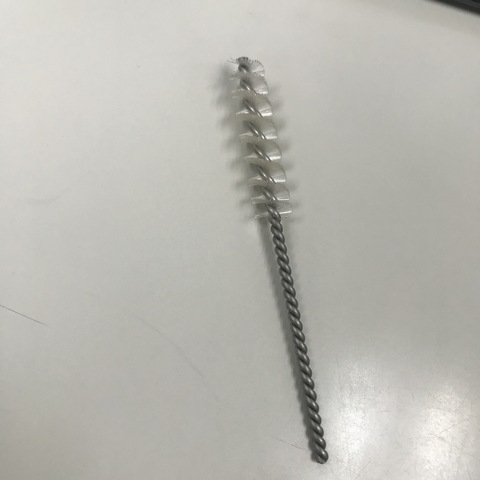Twist Brush-B: (214, 53, 333, 465)
